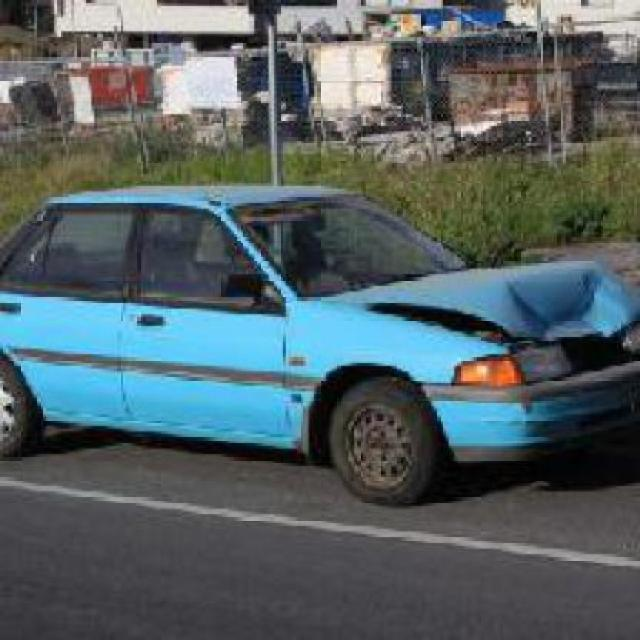damaged-hood: (366, 254, 637, 346)
